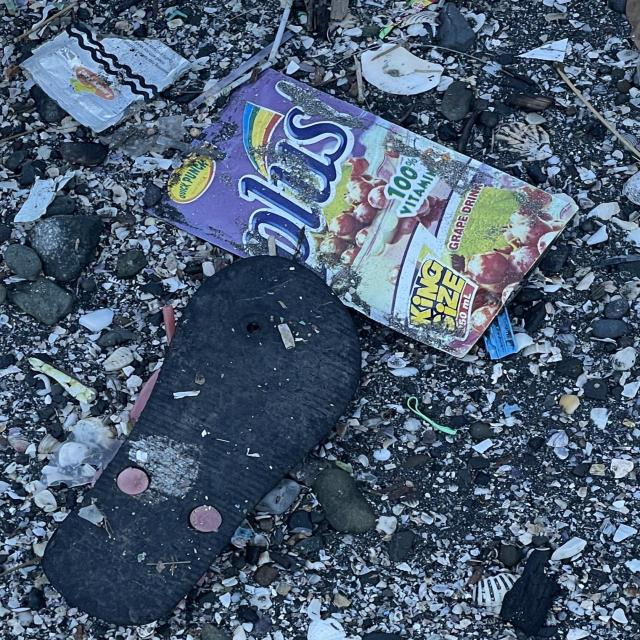plastic_waste: (163, 66, 592, 360), (21, 30, 147, 133)
rubber_waste: (36, 255, 360, 631)
